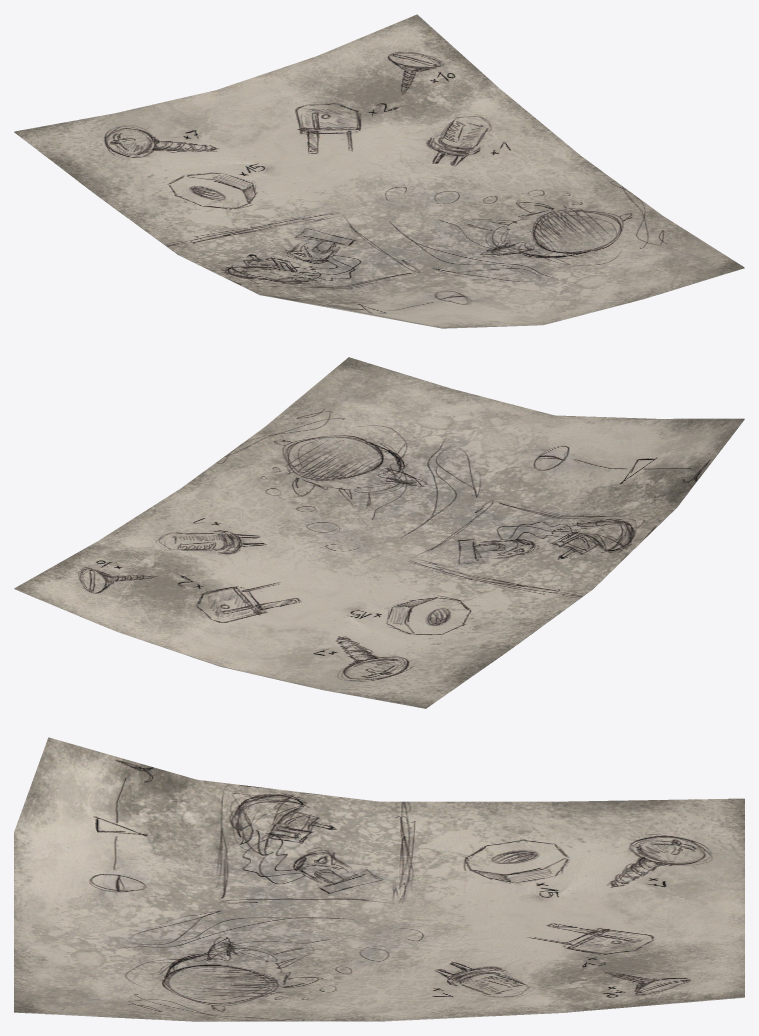
Rendered from sketches_amy_friend.dae.
3 views of the same model, one above another, from view 1: azimuth 30°, elevation 25°; view 2: azimuth 150°, elevation 25°; view 3: azimuth 270°, elevation 25° (orthographic). The views are drawn at different scales.
Parts seen in each view (by area): view 1: Plane; view 2: Plane; view 3: Plane.
Boxes of the visible parts, x1,y1,x2,y2 form: Plane: [14, 14, 744, 328]; Plane: [14, 357, 744, 708]; Plane: [14, 737, 744, 1021].
Size of the model in its own units: 0.3713 by 0.5226 by 0.0582.
Materials: 1 (1 with a texture image).
